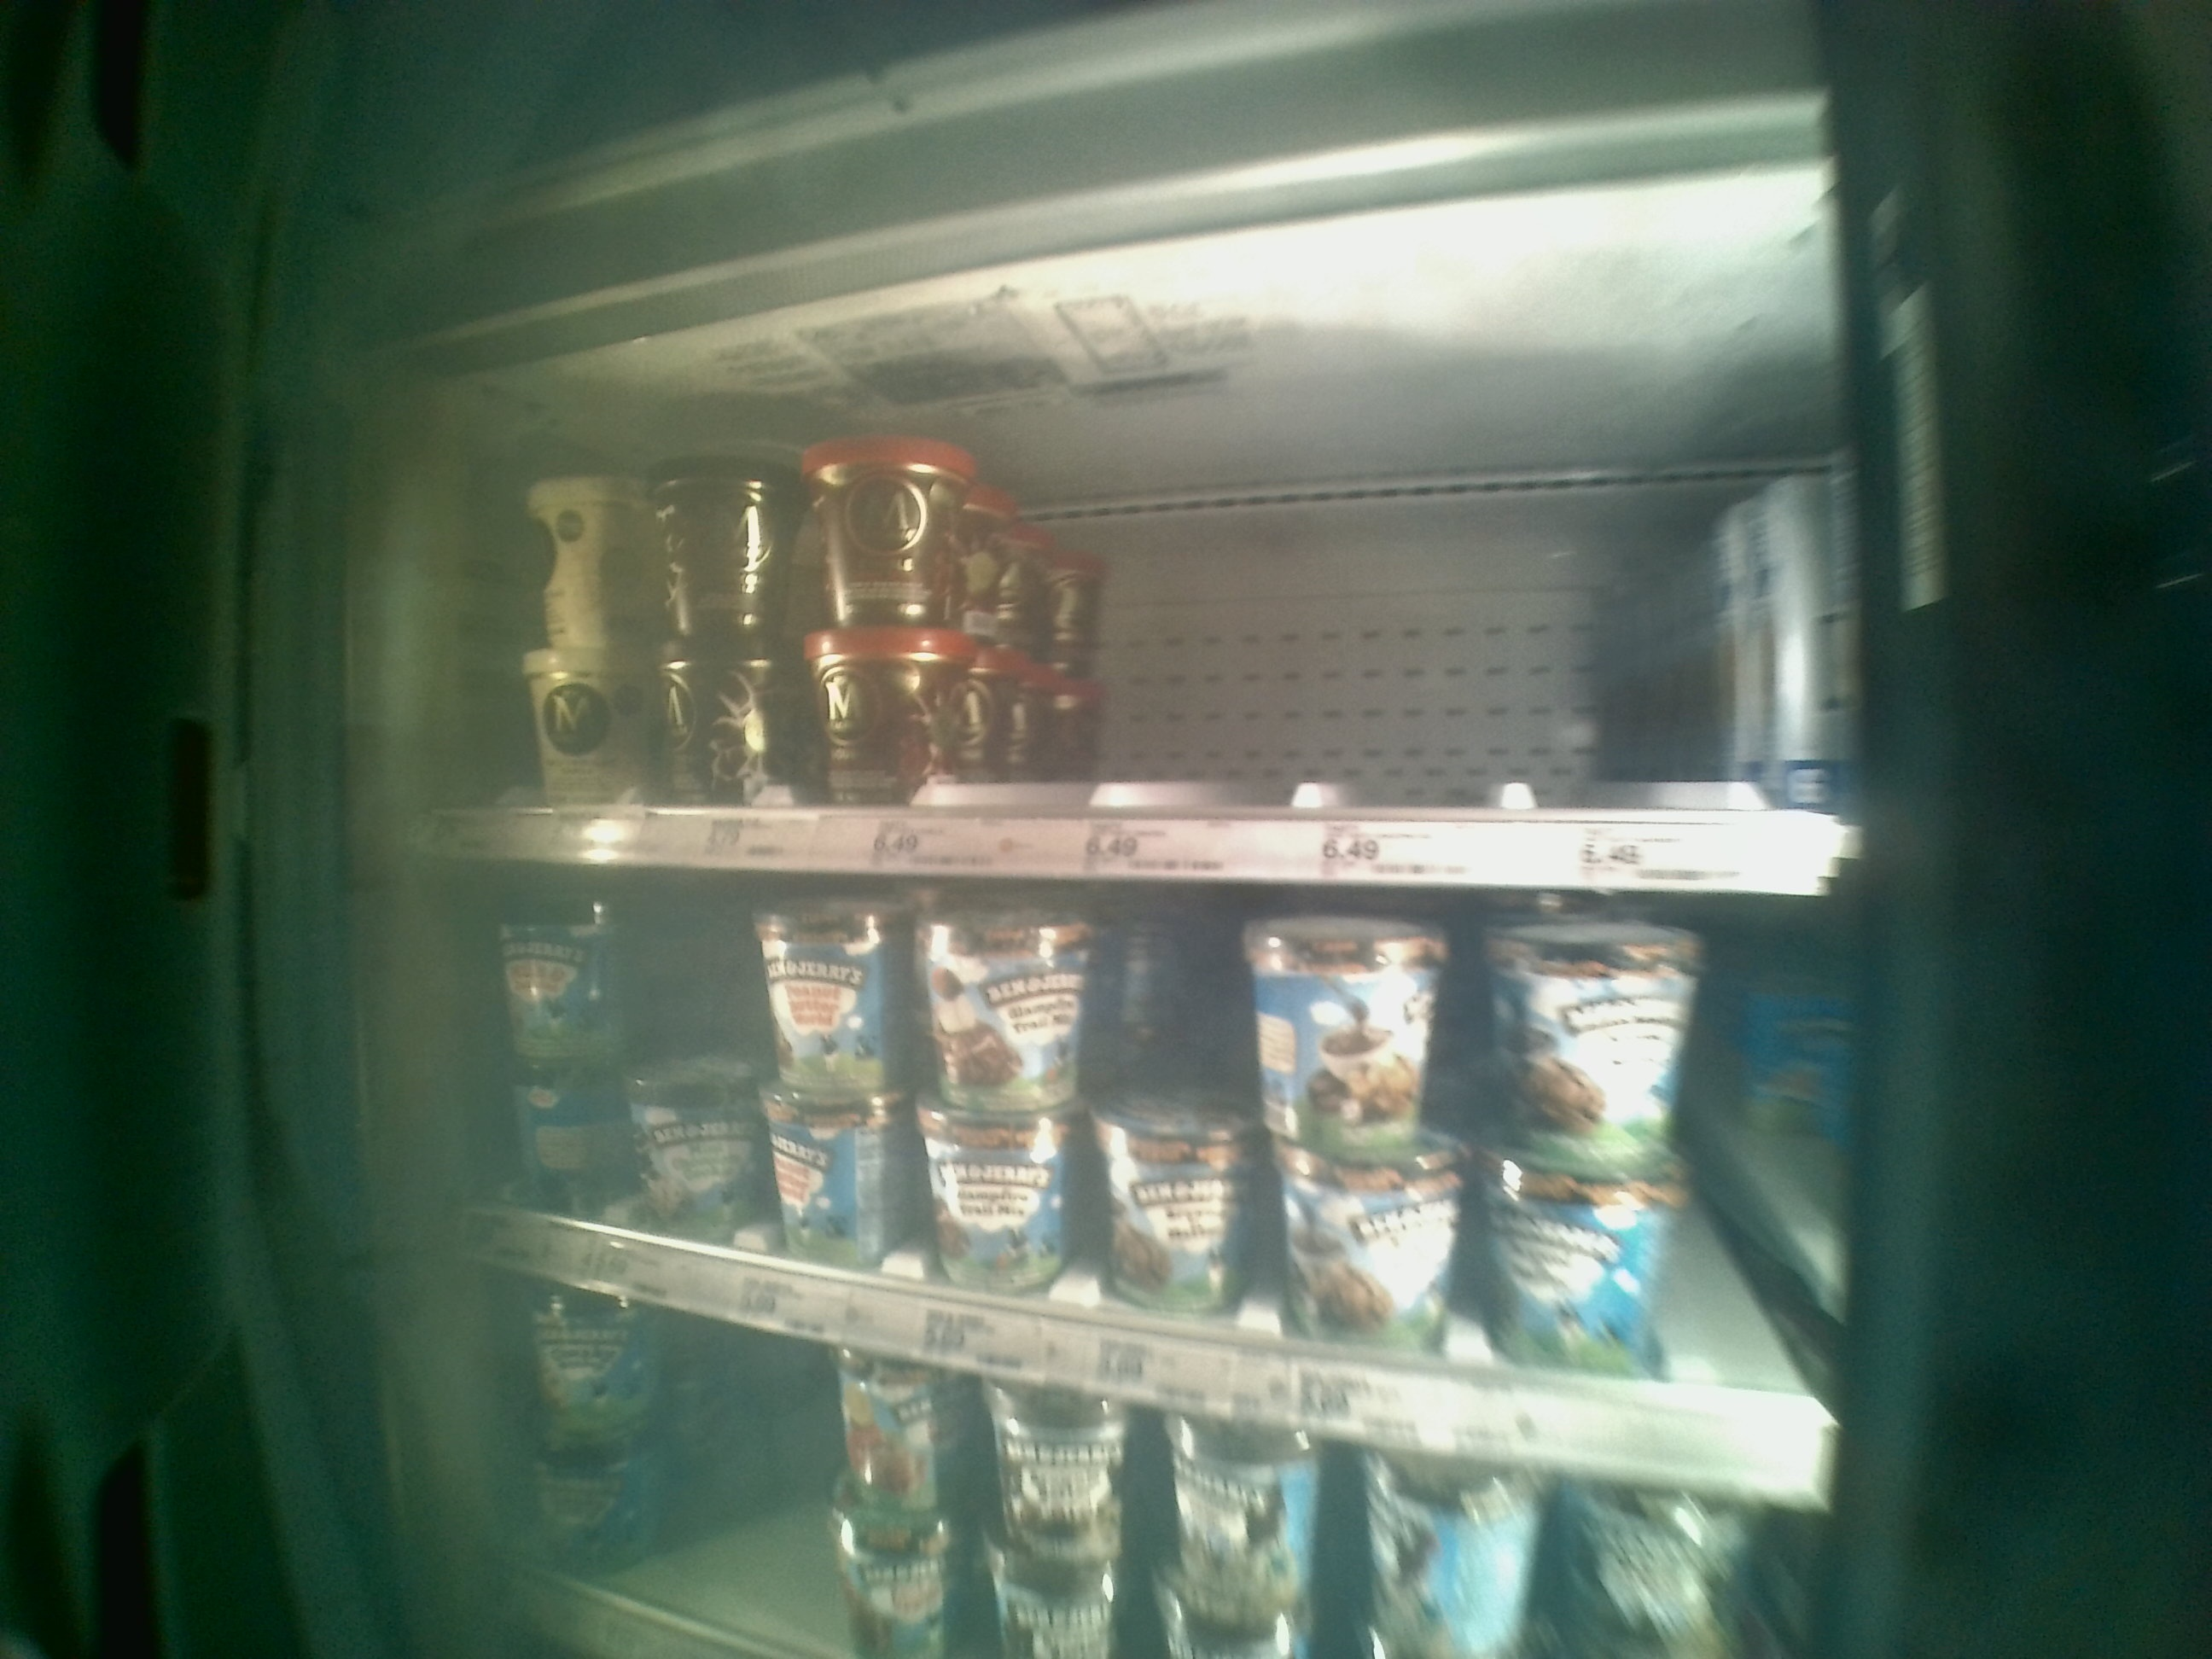shelf: (451, 864, 1843, 1499), (441, 319, 1872, 878)
